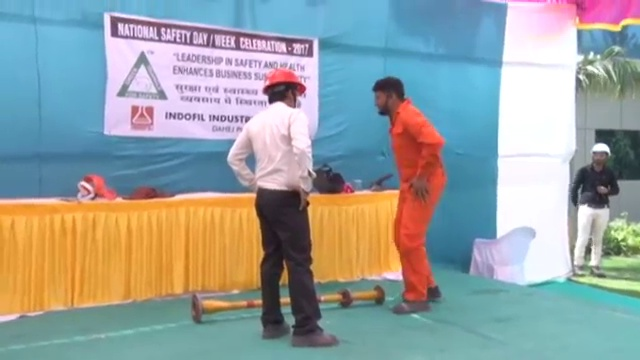helmet: (263, 67, 307, 95), (589, 142, 613, 157)
helmet_off: (370, 76, 406, 119)
helmet_on: (261, 67, 306, 111), (589, 142, 613, 172)
person: (223, 65, 339, 348), (369, 76, 447, 316), (570, 143, 619, 276)
